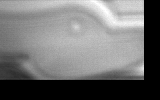cell: (67, 18, 86, 37)
